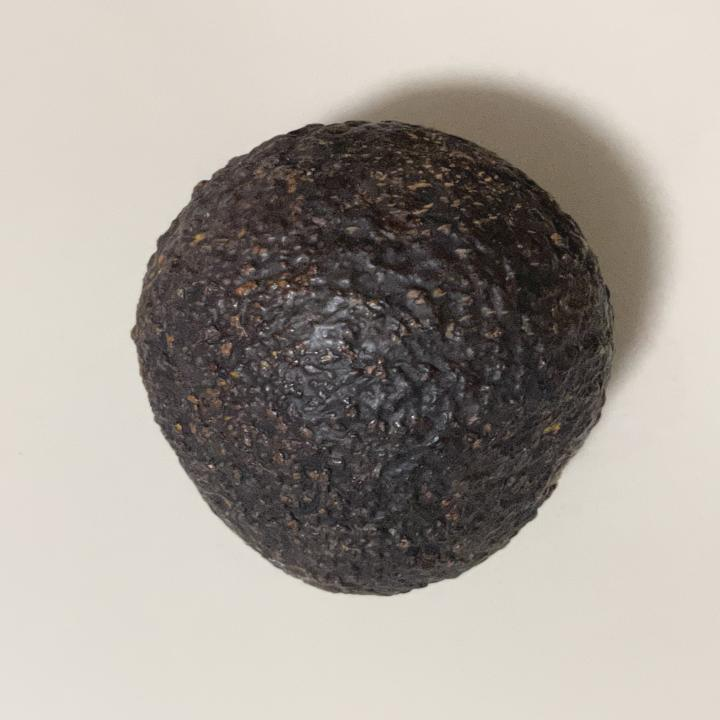Level3: (121, 113, 625, 607)
